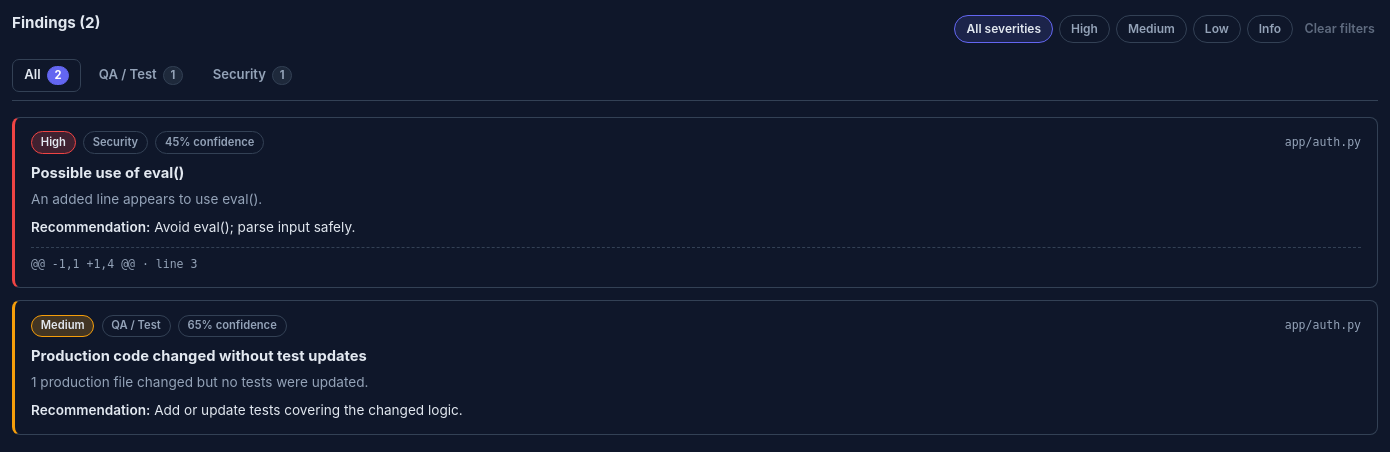
Test: FindingsPanel filtering › filters by severity
Click the button "Medium" at (1151, 29), box x1=1116 y1=15 x2=1187 y2=43
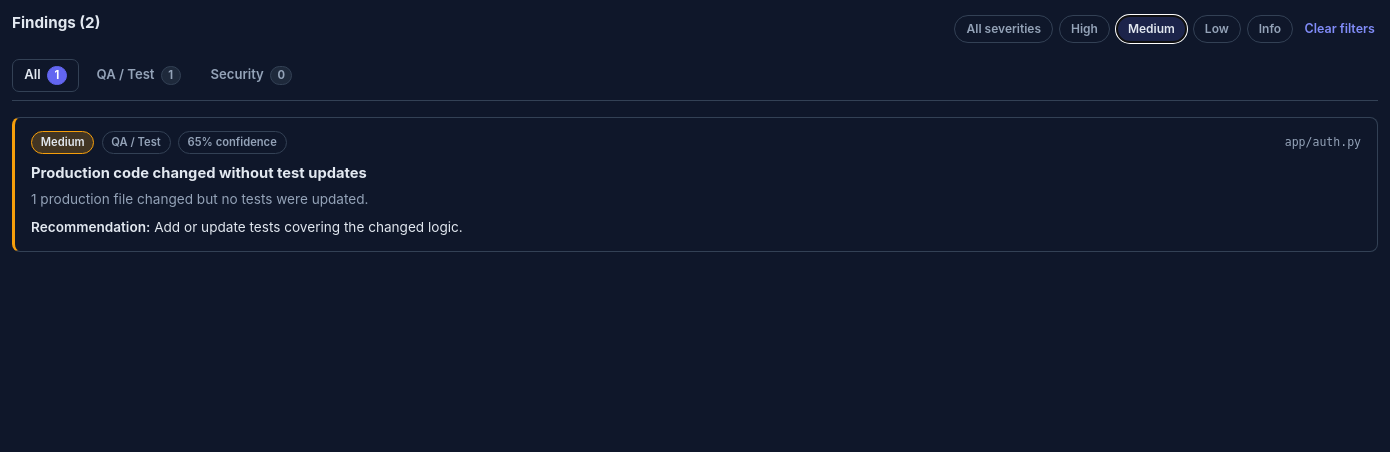
Expected: the heading "Production code changed without test updates" is shown, x1=31 y1=164 x2=367 y2=182
Now the heading "Possible use of eval()" is gone
